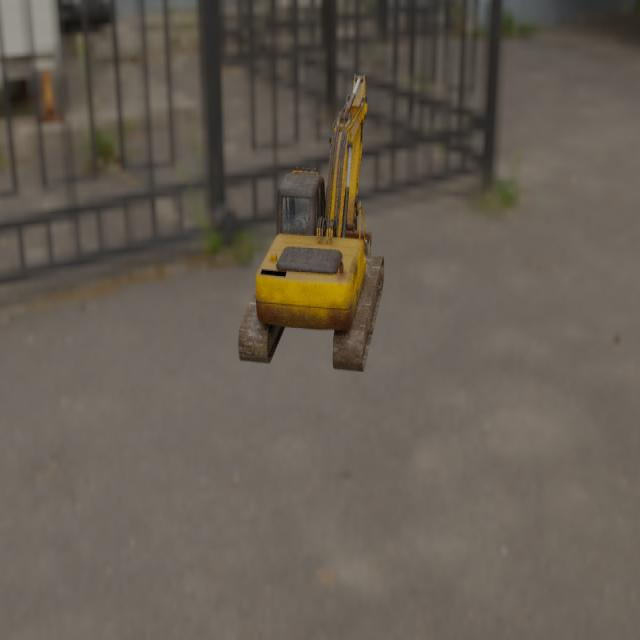excavator: (237, 73, 384, 372)
